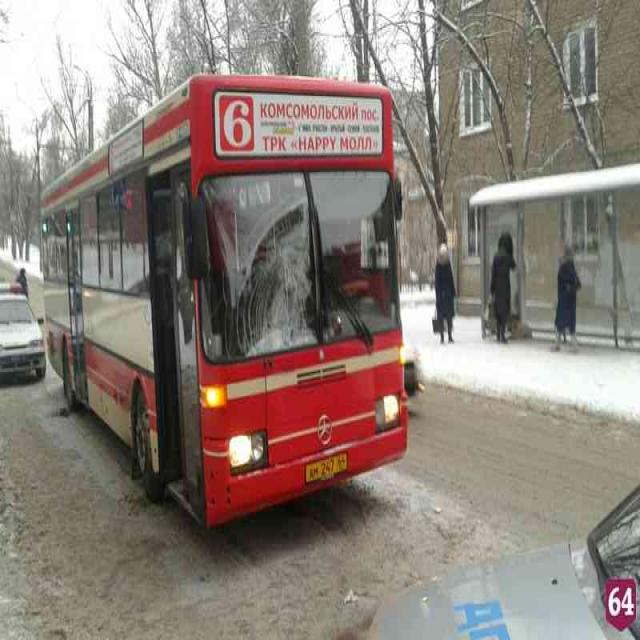number-of-bus: (221, 100, 255, 149)
